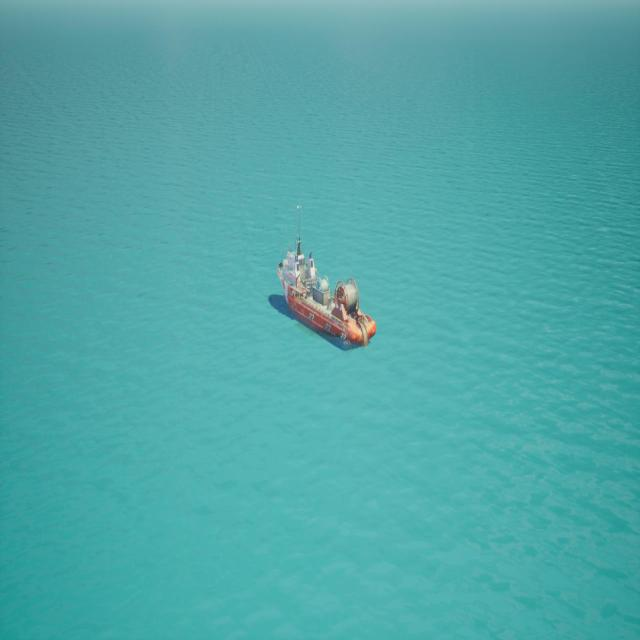tug boat: (272, 204, 372, 354), (299, 261, 379, 353)
